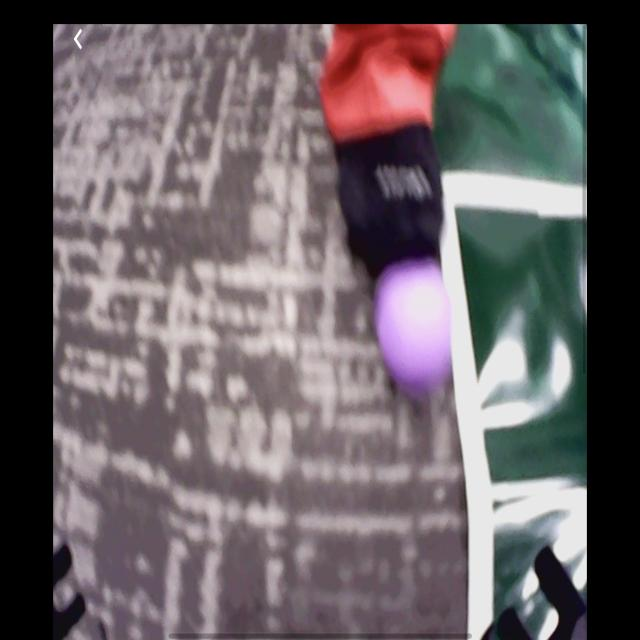ball: (377, 264, 453, 388)
